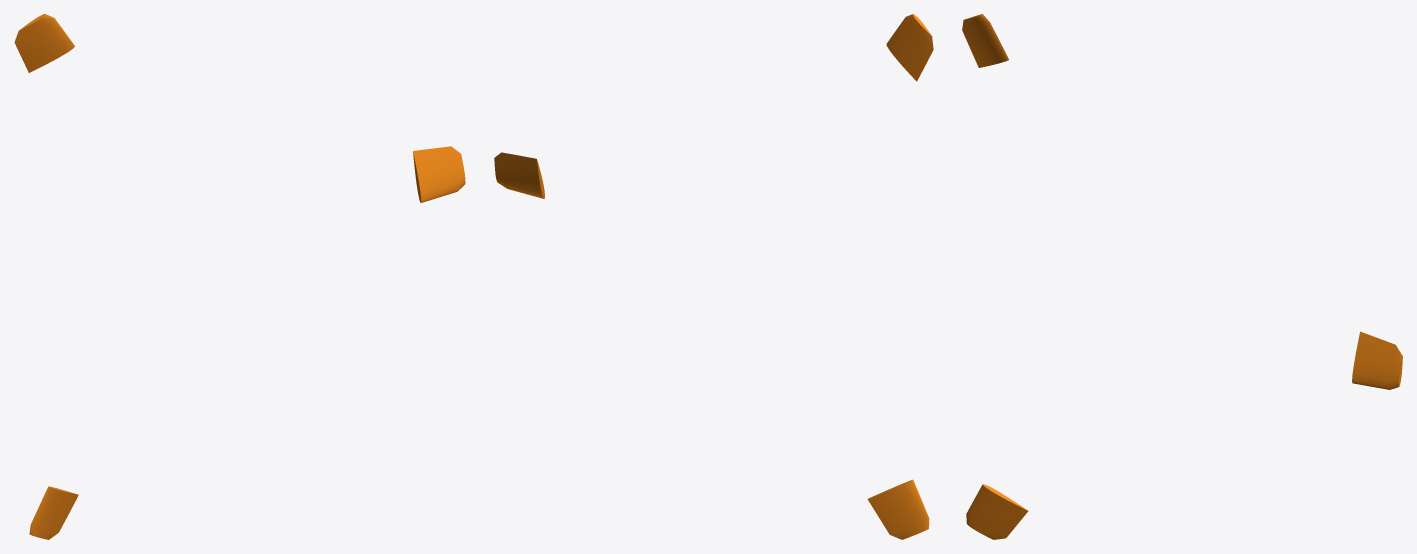
The model's file is front_left_prop_tips.obj.
3 views of the same model, side by side, from view 1: azimuth 30°, elevation 25°; view 2: azimuth 150°, elevation 25°; view 3: azimuth 330°, elevation 25° (orthographic).
Visible parts, largest first — view 1: front_left_prop_tips; view 2: front_left_prop_tips; view 3: front_left_prop_tips.
Boxes of the visible parts, box(x1,y1,x2,y2) form: front_left_prop_tips: box(14, 14, 465, 539); front_left_prop_tips: box(494, 14, 933, 539); front_left_prop_tips: box(962, 14, 1402, 539).
Bounding box in the file's own units: 0.1016 × 0.1156 × 0.00326.
